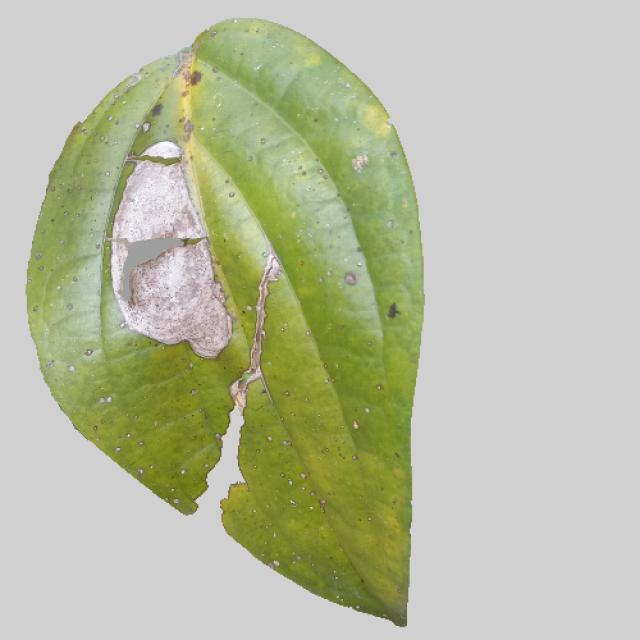leaf-blight: (15, 34, 421, 624)
